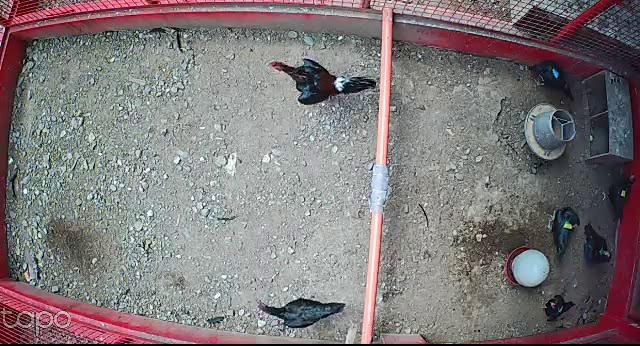Chicken: (255, 293, 350, 332), (546, 202, 582, 259), (528, 60, 575, 103), (603, 171, 637, 227), (582, 220, 614, 265), (541, 292, 575, 324)
Drinker: (505, 244, 549, 292)
Feeder: (524, 101, 578, 162)
Rooster: (269, 47, 380, 113)
Saddle_Color_Blue: (551, 68, 560, 78)
Saddle_Color_Yellow: (620, 190, 626, 197)
Saddle_Color_YellowGreen: (562, 221, 574, 229)
